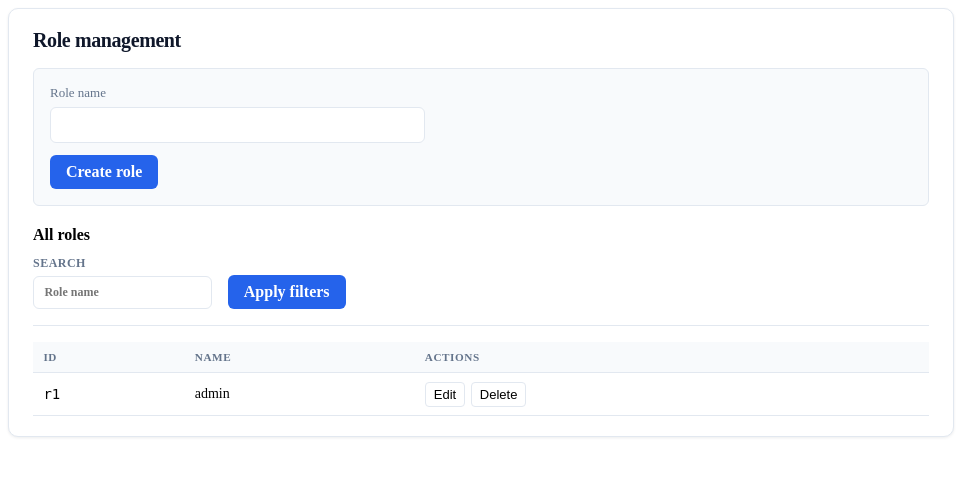
RoleManagementPanel › surfaces create errors
Type "x" into the field labelled "Role name" at x=237, y=125, box [50, 107, 425, 143]
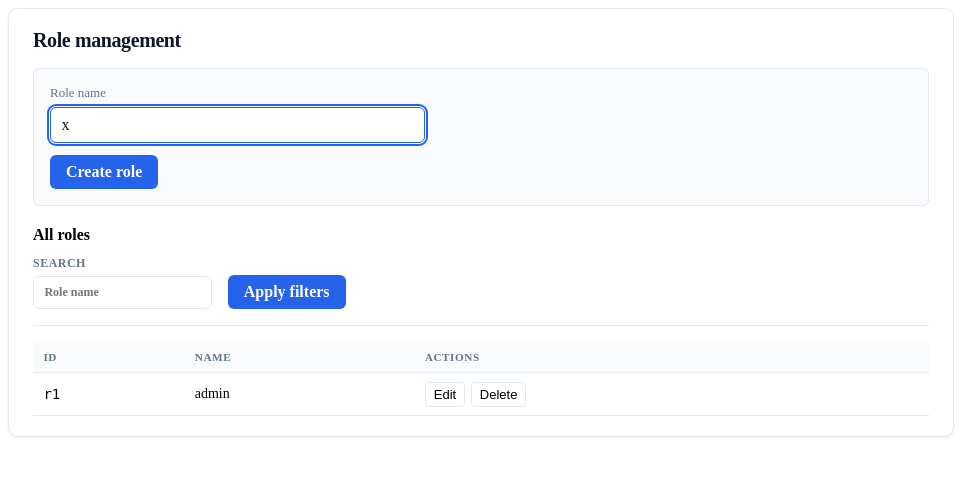
Click the button "Create role" at x=104, y=172, box [50, 155, 158, 189]
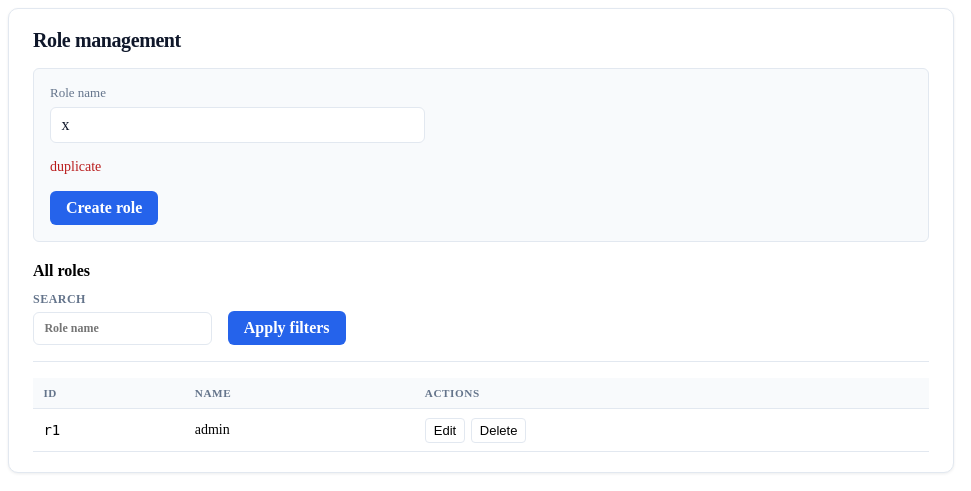
Now the message with test id "role-form-error" reads "duplicate", box [50, 159, 101, 174]
